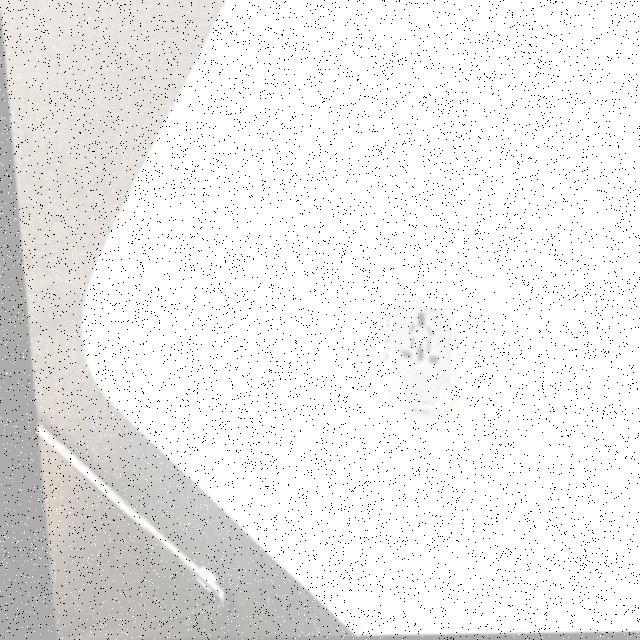adapter: (372, 298, 454, 416)
